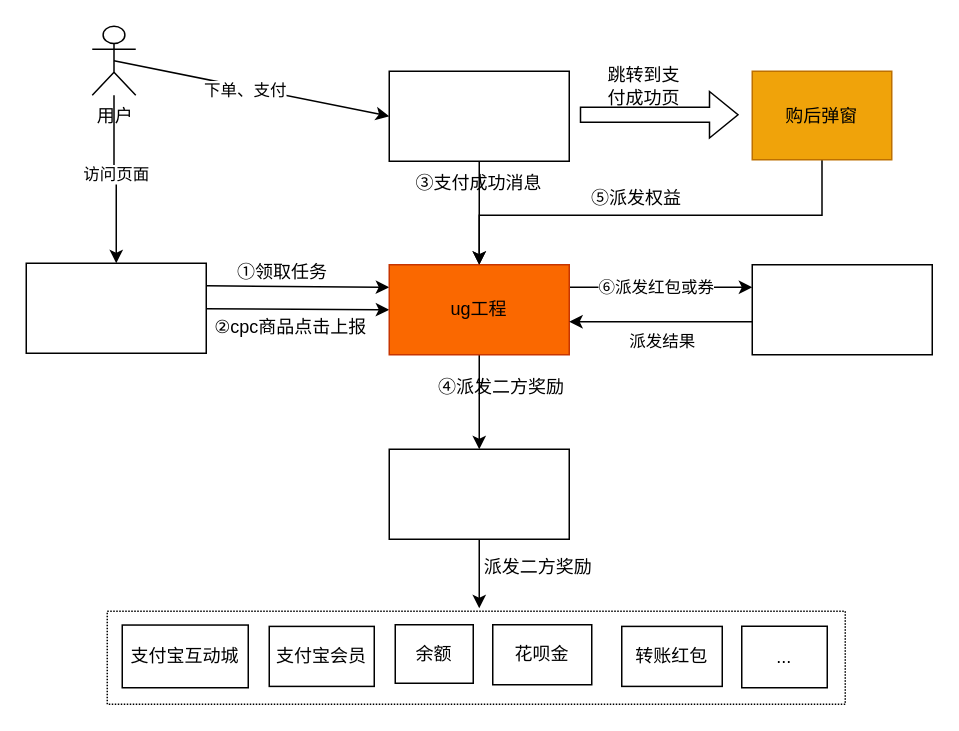
The diagram is 959 pixels wide and 731 high, and some of its shapes have lost their labels. The box of each missing label's shape, as (x1, y1, x2, y2) in pixels:
BI: (388, 448, 569, 539)
乐高搭建系统: (25, 262, 206, 353)
交易: (388, 70, 569, 161)
促销: (751, 263, 932, 355)
